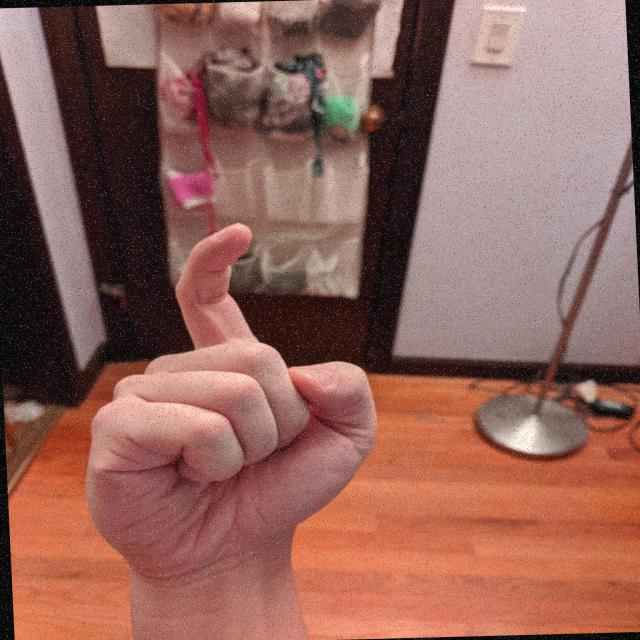X: (66, 215, 393, 580)
